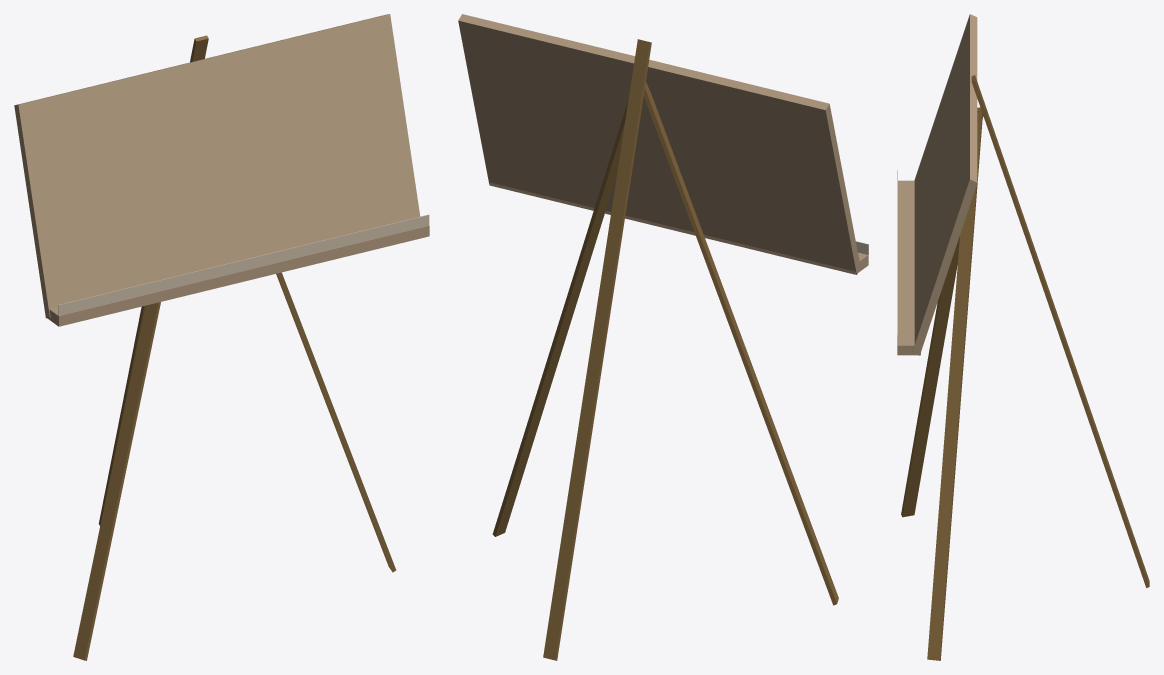
File: Easel.glb
3 views of the same model, side by side, from view 1: azimuth 30°, elevation 25°; view 2: azimuth 150°, elevation 25°; view 3: azimuth 270°, elevation 25° (orthographic). The views are drawn at different scales.
Visible parts, largest first — view 1: Mesh_Mesh_head_geo.001_lambert2SG.001; view 2: Mesh_Mesh_head_geo.001_lambert2SG.001; view 3: Mesh_Mesh_head_geo.001_lambert2SG.001.
Boxes of the visible parts, bbox=[...] form: Mesh_Mesh_head_geo.001_lambert2SG.001: bbox=[14, 14, 429, 660]; Mesh_Mesh_head_geo.001_lambert2SG.001: bbox=[458, 14, 868, 660]; Mesh_Mesh_head_geo.001_lambert2SG.001: bbox=[897, 14, 1149, 660].
Size of the model in its own units: 57.31 by 82.1 by 36.97.
